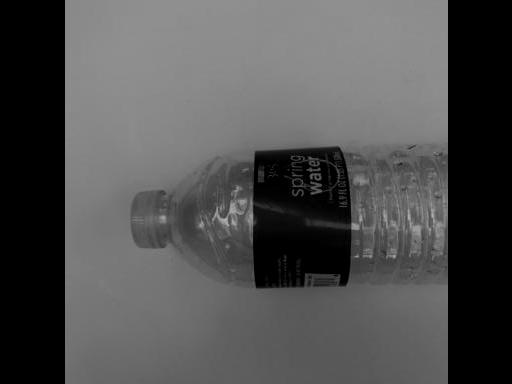bottle: (121, 137, 448, 291)
